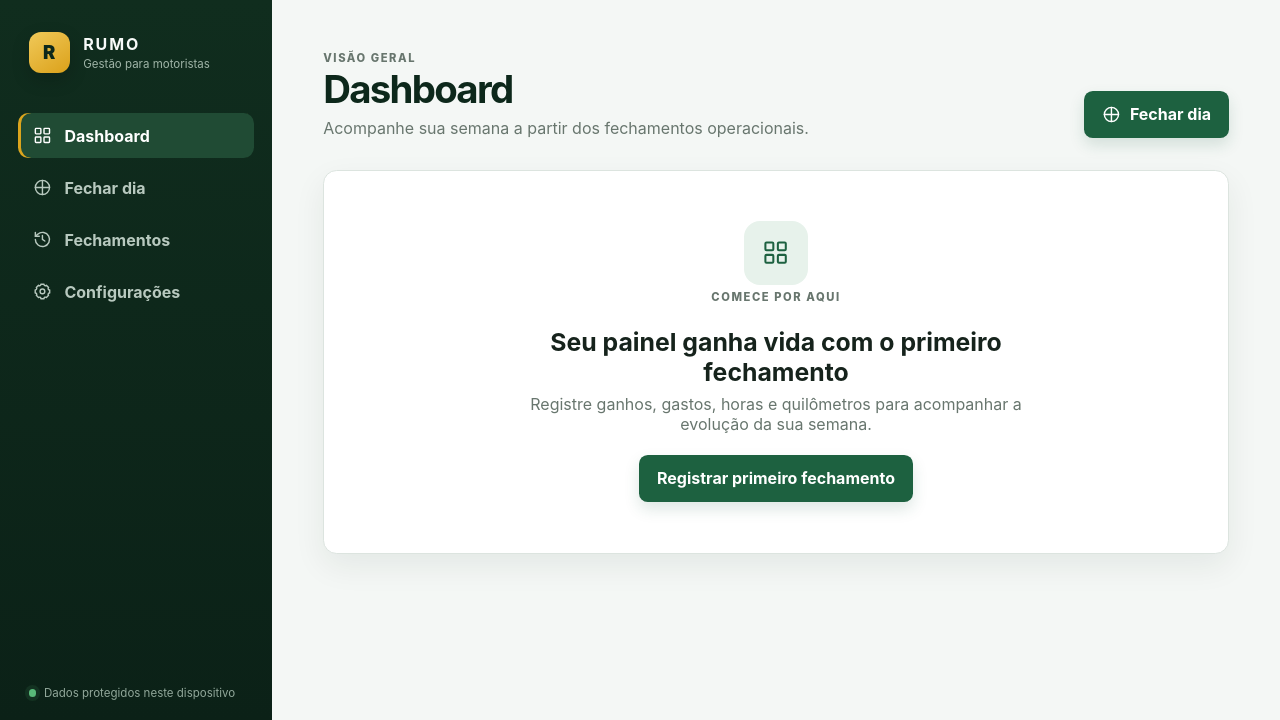
Scenario: primeira vertical do aplicativo › salva preferências e as reflete no dashboard
The image size is (1280, 720).
Click the button "Configurações": (136, 292) top-left (18, 269), bottom-right (254, 314)
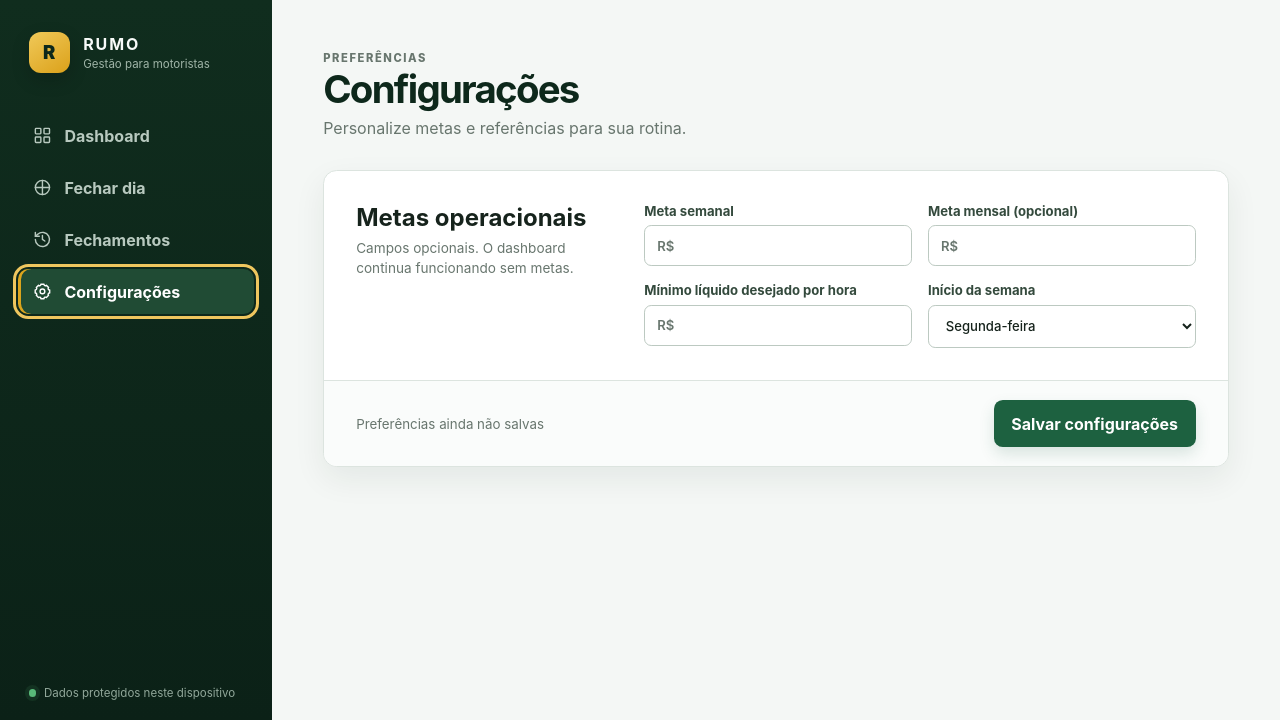
In the field labelled "Meta semanal": (793, 246) top-left (674, 226), bottom-right (911, 265), type "1500,00"
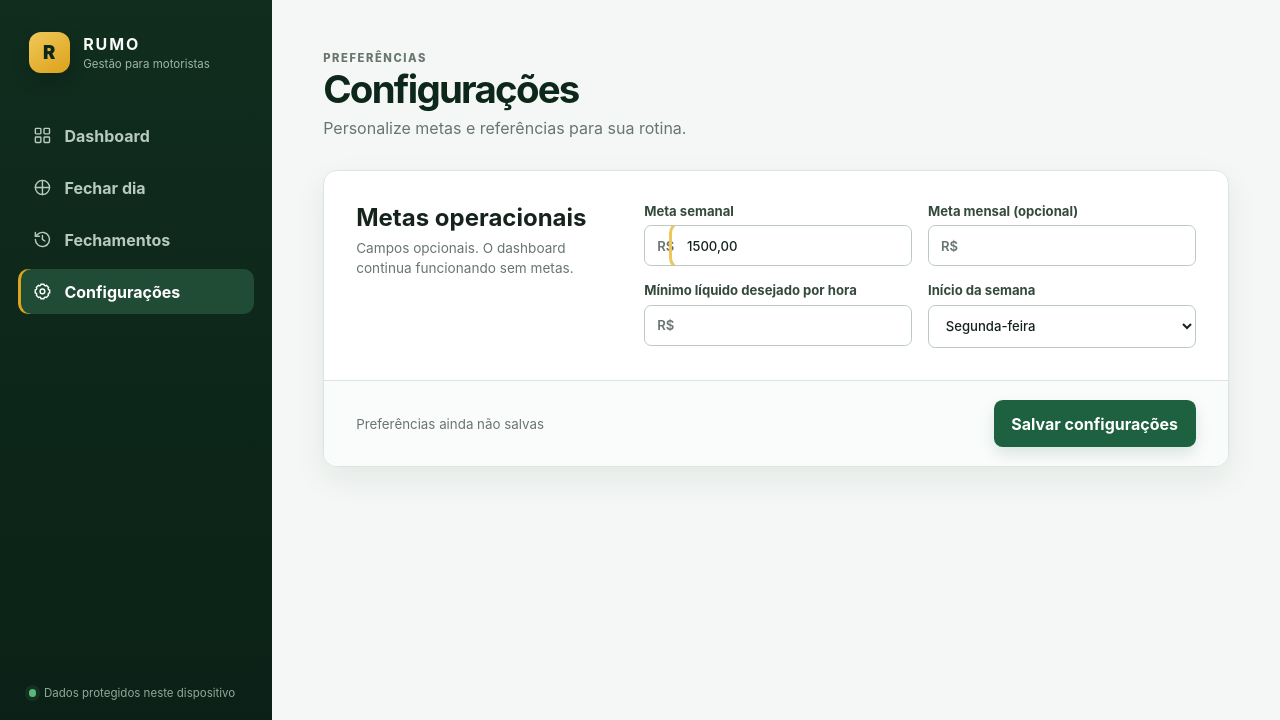
Click the button "Salvar configurações": (1095, 424) top-left (994, 400), bottom-right (1196, 447)
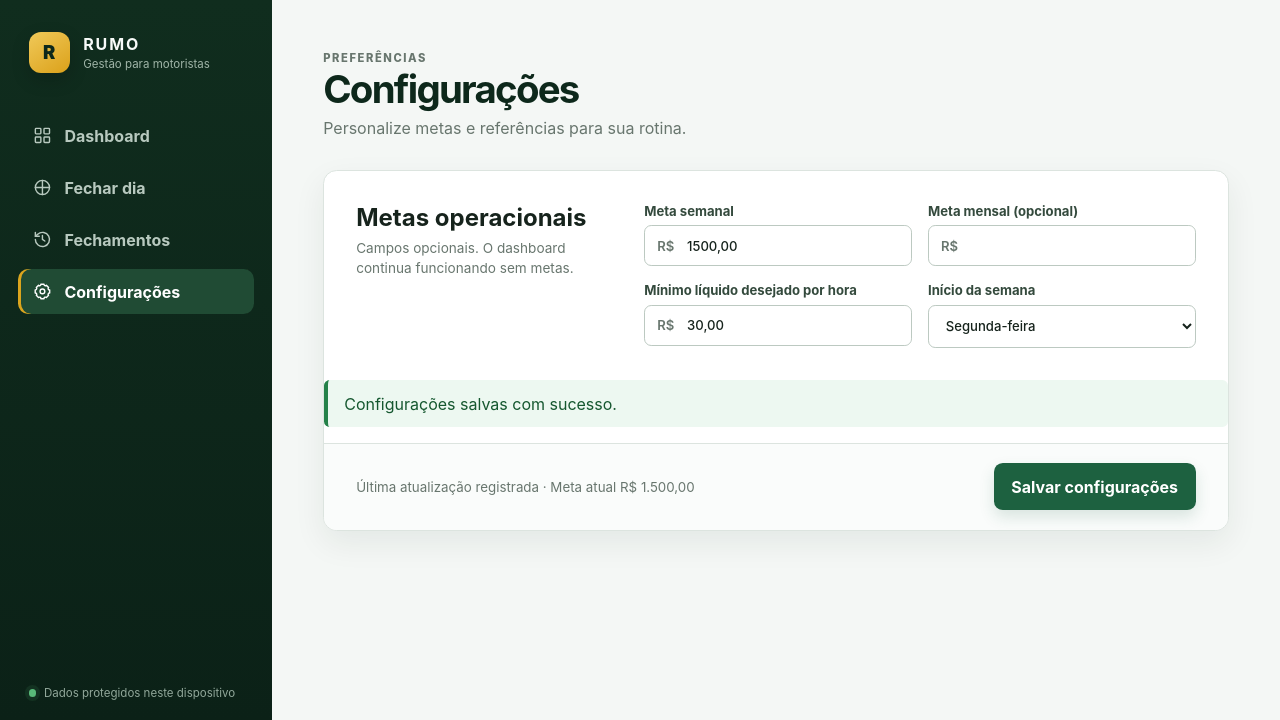
Result: the text "Configurações salvas com sucesso." is shown at top-left (324, 380), bottom-right (1228, 427)
